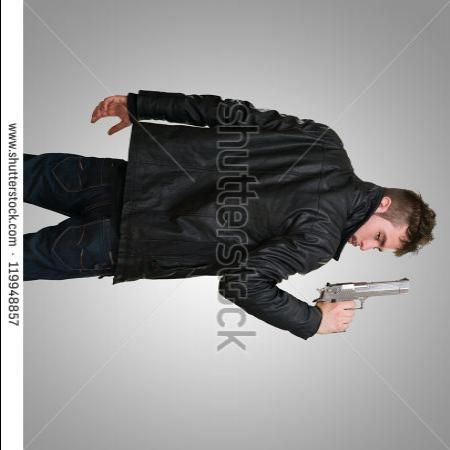Pistol: (317, 273, 411, 337)
